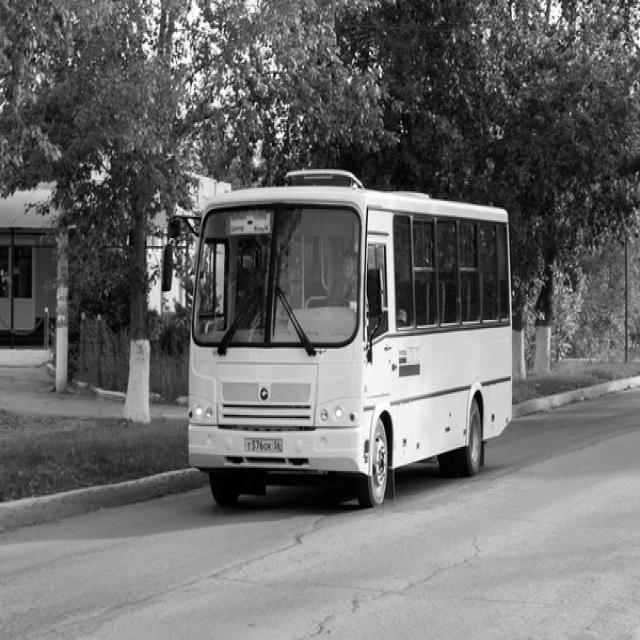Bus: (188, 170, 512, 505)
